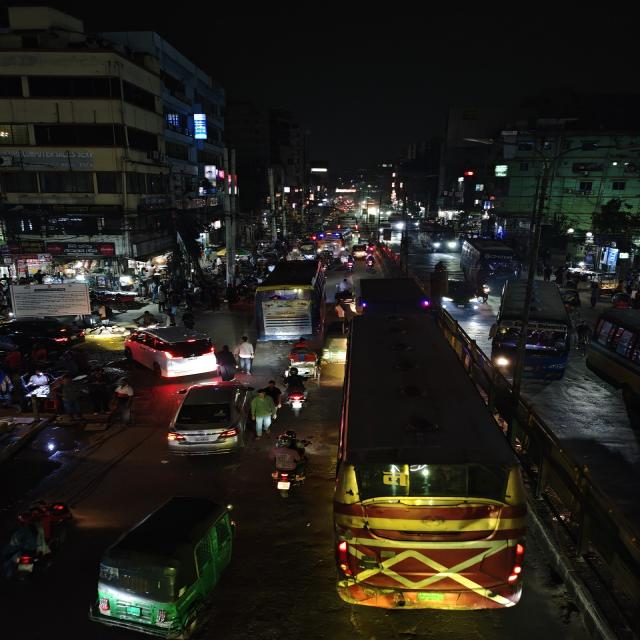bus: (333, 278, 525, 614), (490, 277, 578, 383), (590, 305, 640, 459), (252, 259, 331, 343), (460, 238, 525, 297), (418, 220, 458, 253)
car: (164, 380, 255, 460), (122, 325, 220, 379), (0, 316, 89, 351), (442, 275, 478, 313)
cng: (88, 496, 241, 640), (350, 242, 367, 258)
motorcycle: (5, 501, 72, 581), (266, 432, 313, 499), (281, 371, 313, 417), (341, 252, 356, 271), (363, 252, 377, 270)
pedestrian: (250, 390, 278, 438), (215, 344, 239, 382), (234, 335, 256, 373), (179, 311, 199, 329)
rickshaw: (285, 338, 319, 378)
